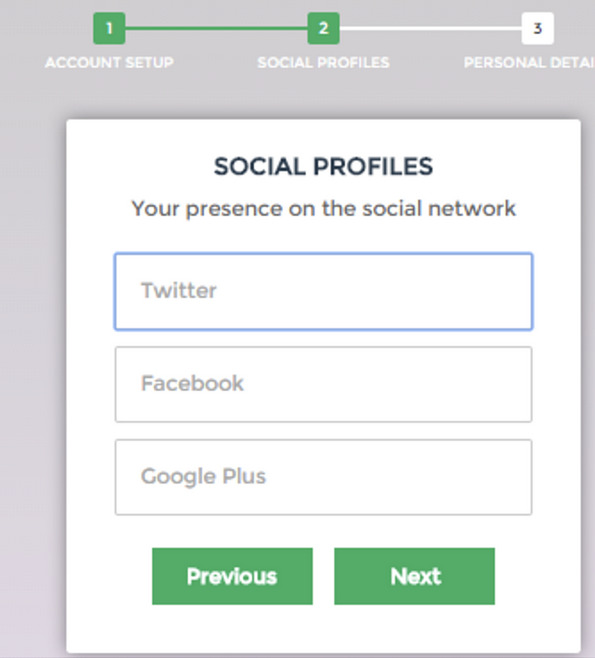button: (151, 546, 314, 605), (334, 547, 497, 605)
field: (111, 250, 536, 333), (114, 438, 535, 517), (113, 346, 535, 423)
